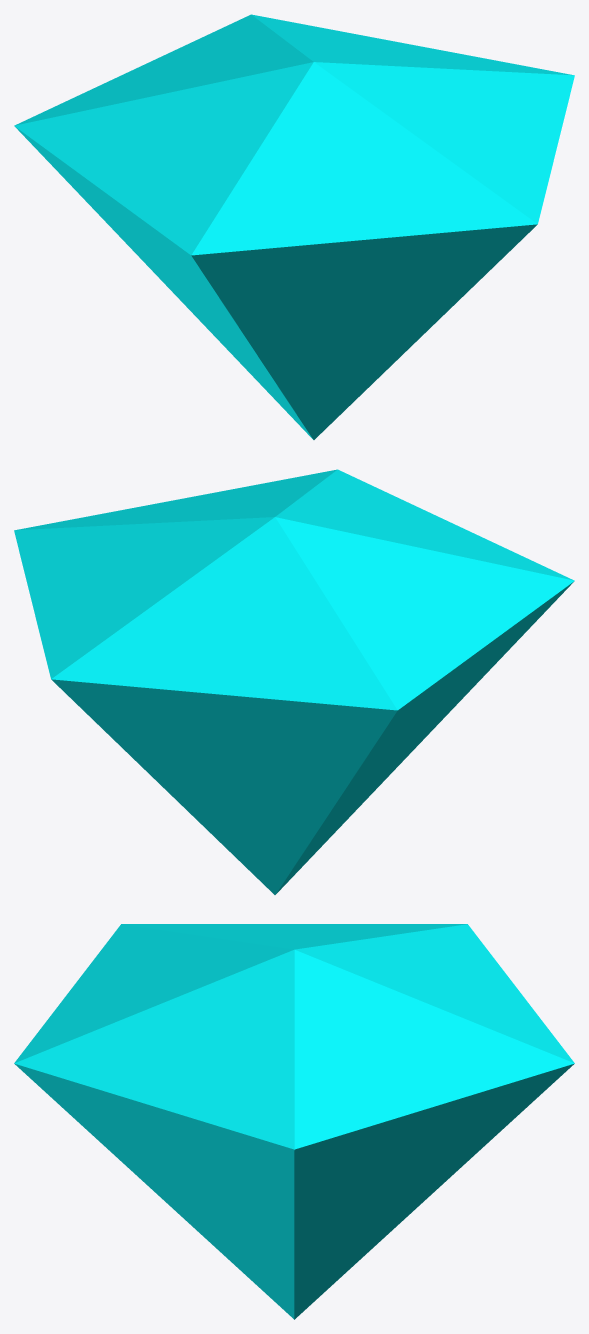
The model's file is Jewel.fbx.
3 views of the same model, one above another, from view 1: azimuth 30°, elevation 25°; view 2: azimuth 150°, elevation 25°; view 3: azimuth 270°, elevation 25° (orthographic). The views are drawn at different scales.
Parts seen in each view (by area): view 1: Icosphere; view 2: Icosphere; view 3: Icosphere.
Part boxes in pixels (<box>): Icosphere: <box>14,14,574,439</box>; Icosphere: <box>14,469,574,894</box>; Icosphere: <box>14,924,574,1319</box>.
Size of the model in its own units: 162 by 124 by 170.
